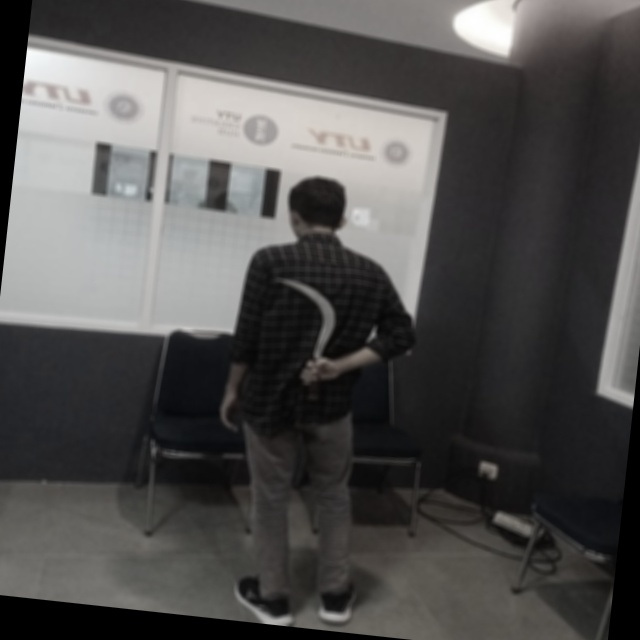Sharp-Object: (265, 271, 348, 388)
